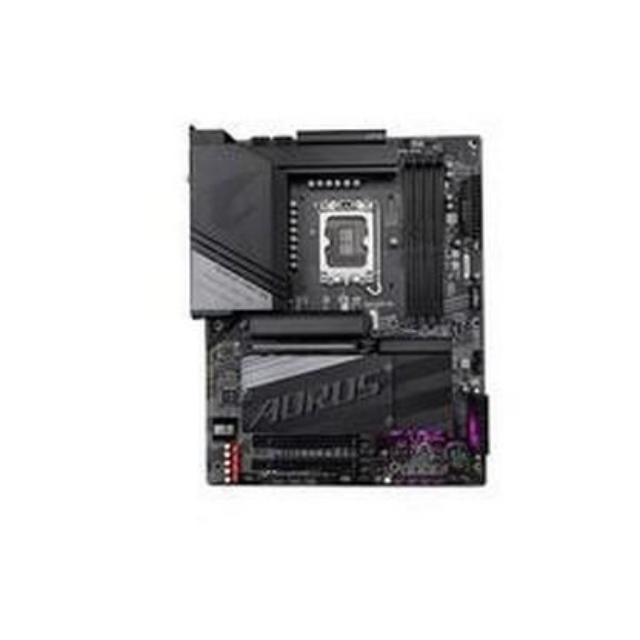Mainboard: (177, 116, 505, 493)
